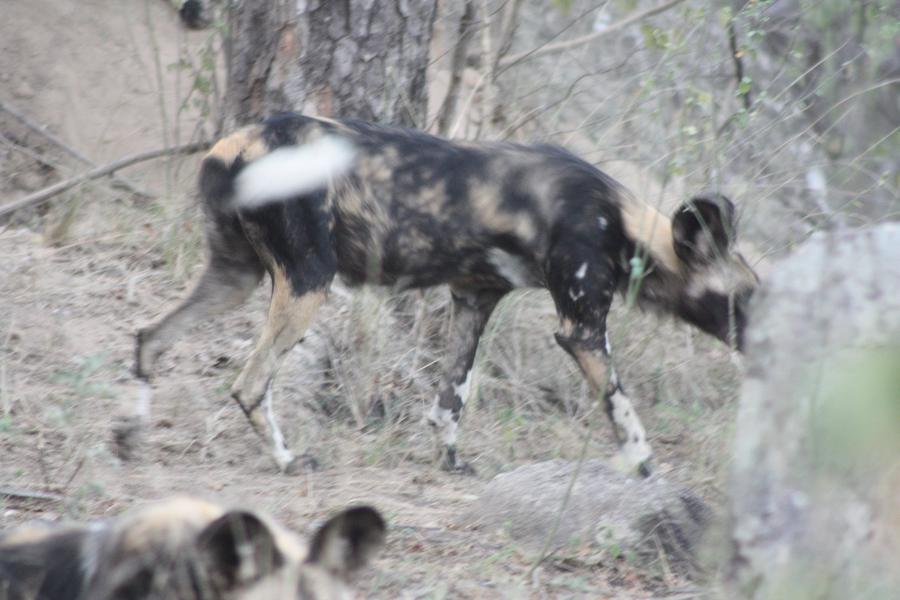wilddog: (201, 163, 748, 355)
